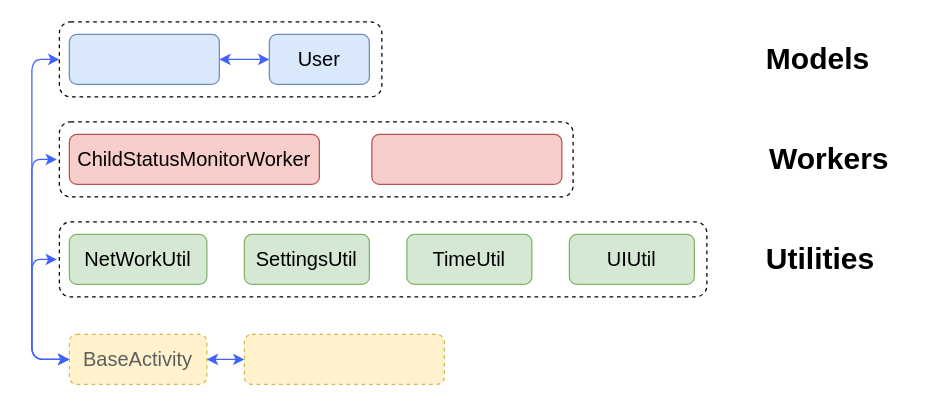
Some shapes in this 933 by 406 pixel diagram are drawn without their labels. Here are the shapes that lost their labels. From the top down, the box of each, then its label:
(68, 33, 219, 84): ServerAdapter
(371, 133, 562, 184): ParentNotifyWorker
(243, 333, 444, 384): MainBaseFragment
